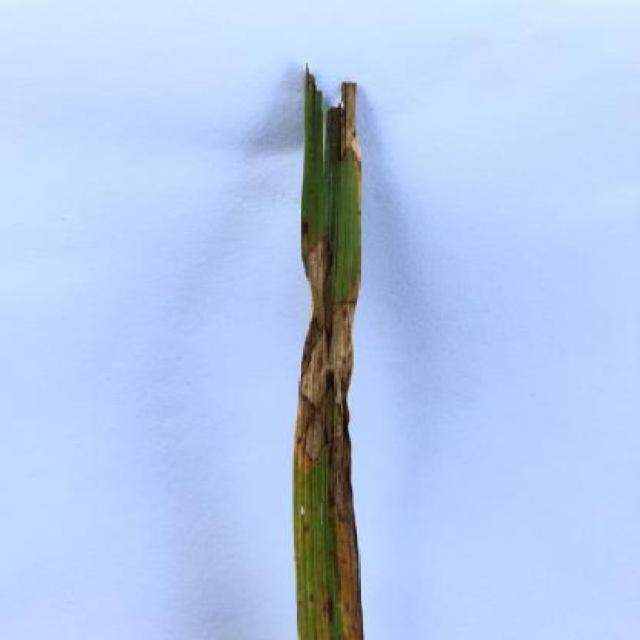Brown_Spot: (292, 57, 373, 640)
